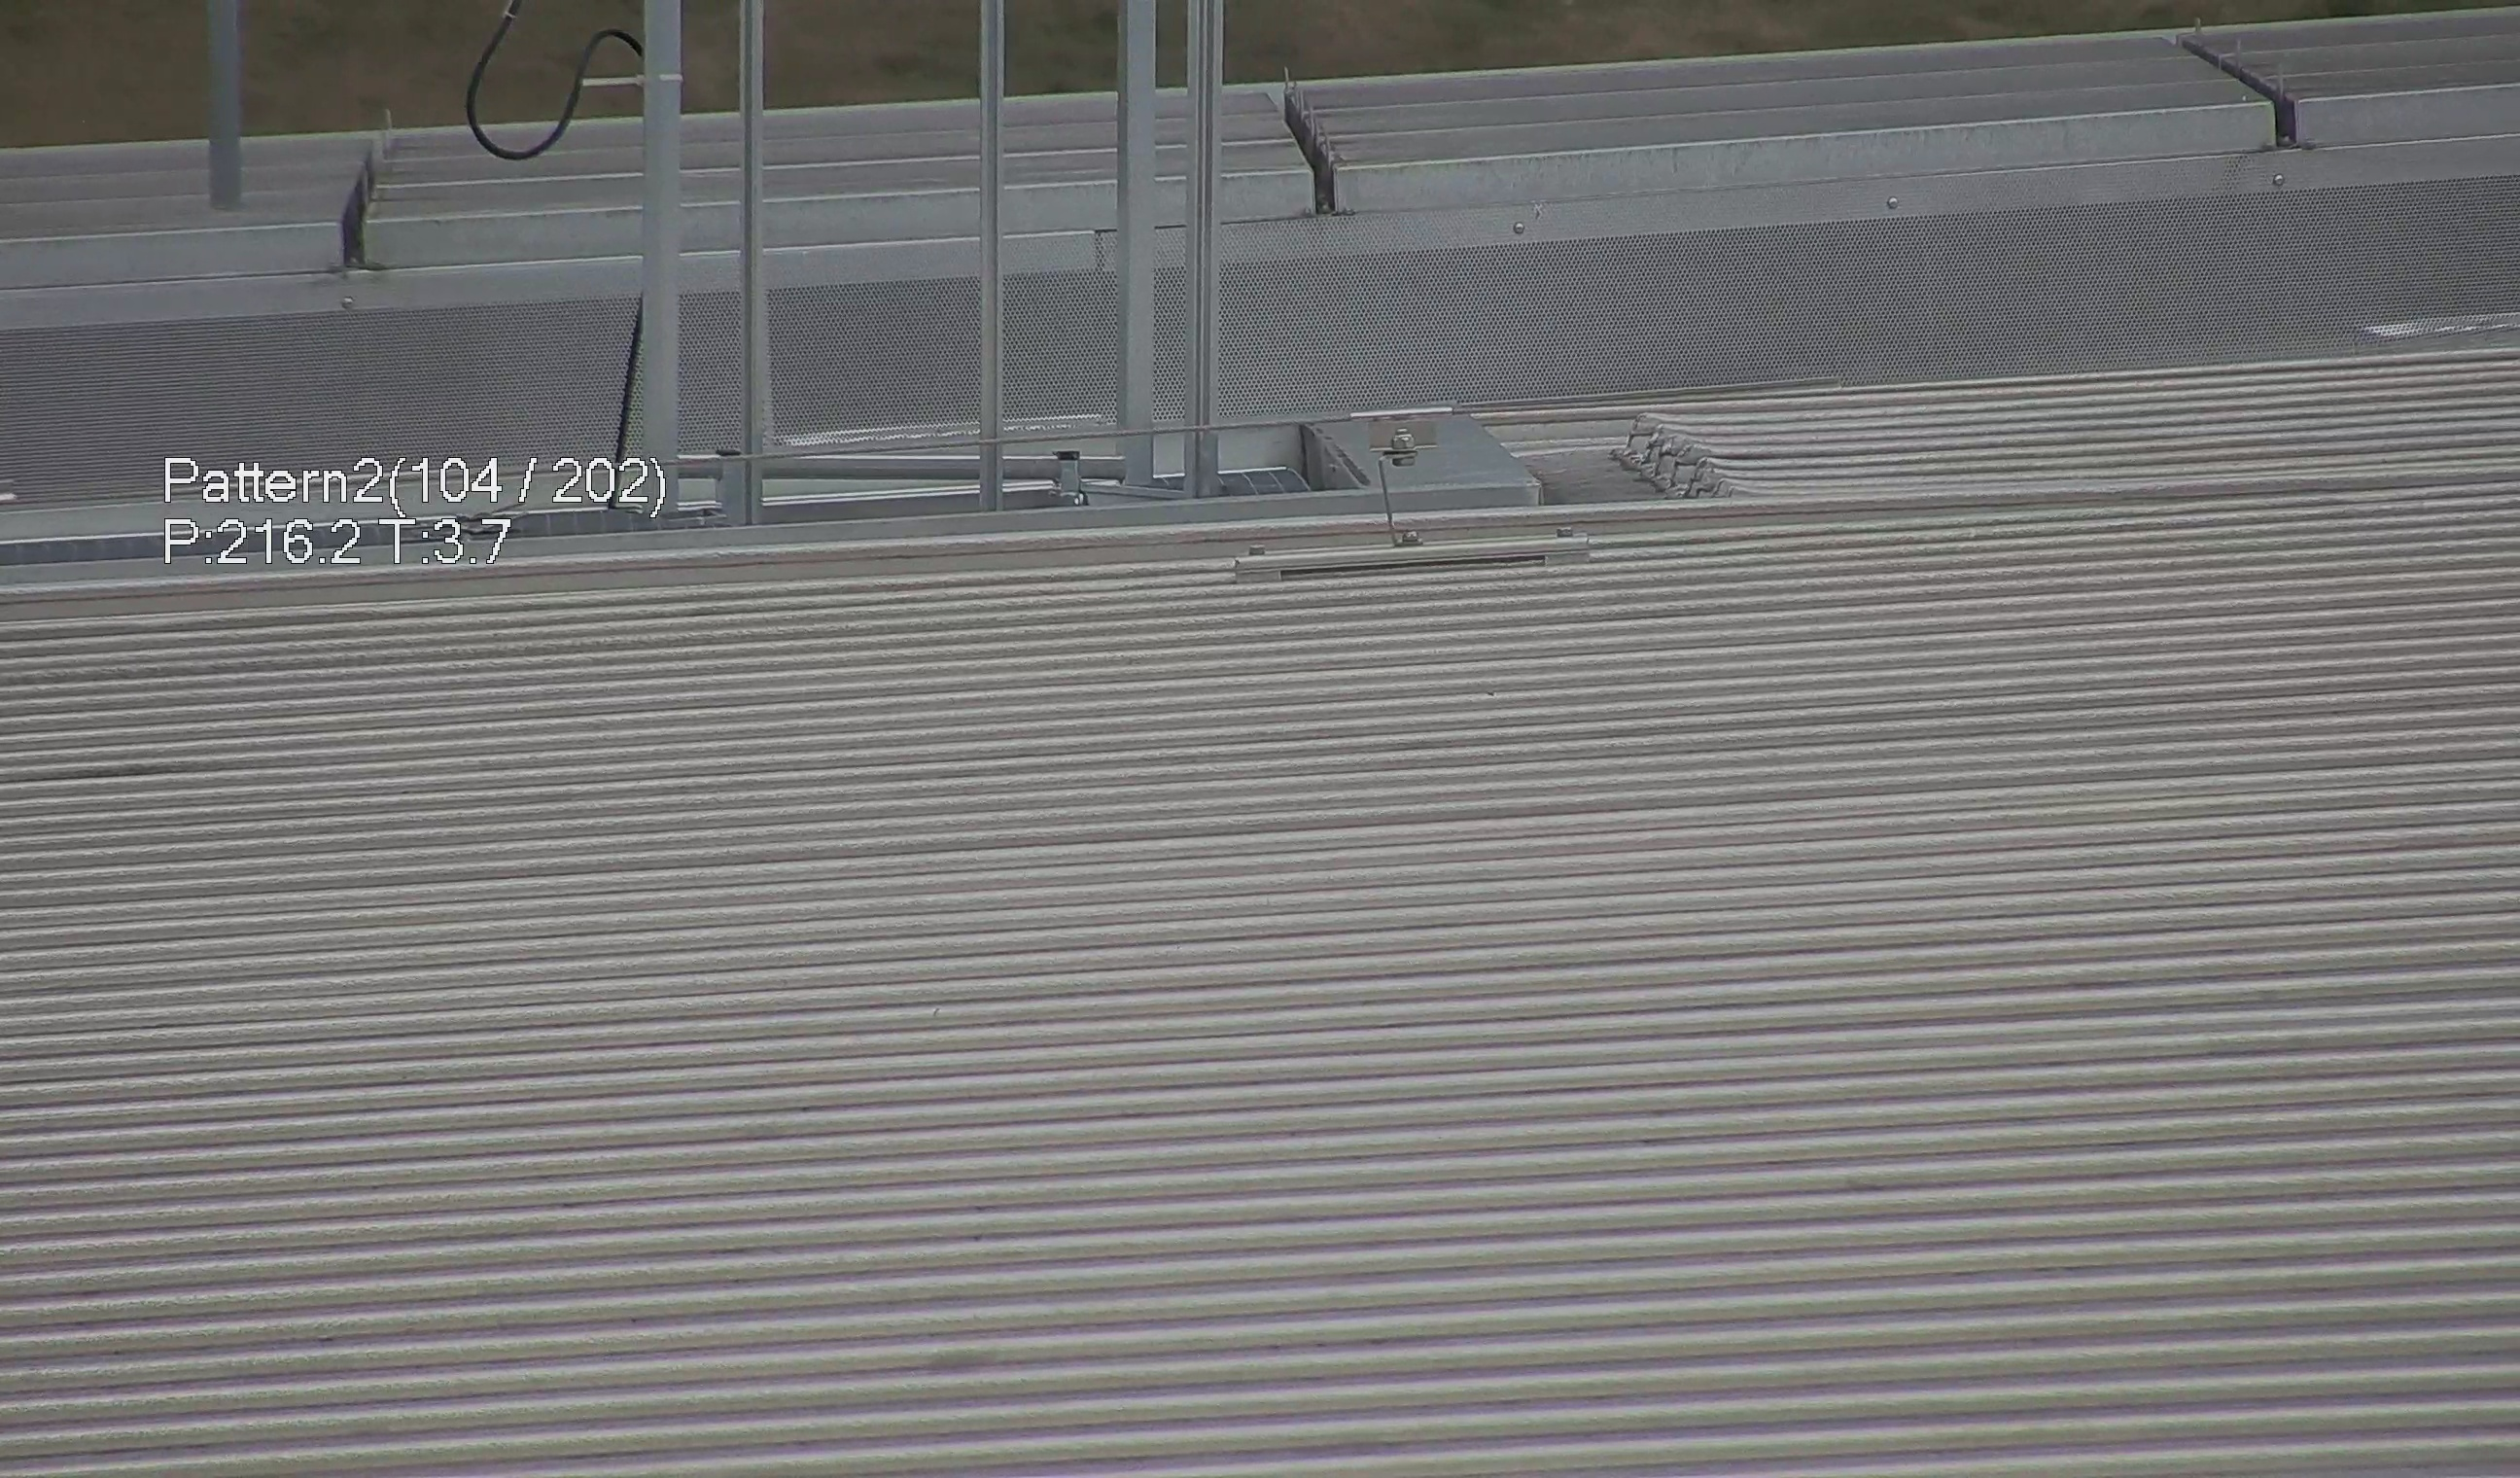Other: (448, 0, 652, 151)
